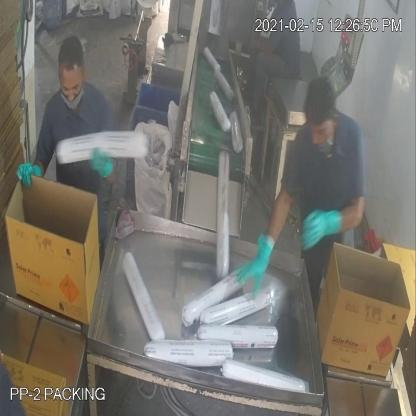glove: (228, 230, 288, 295), (298, 204, 338, 262), (9, 154, 51, 202), (87, 148, 116, 188)
no_glove: (247, 32, 284, 66)
